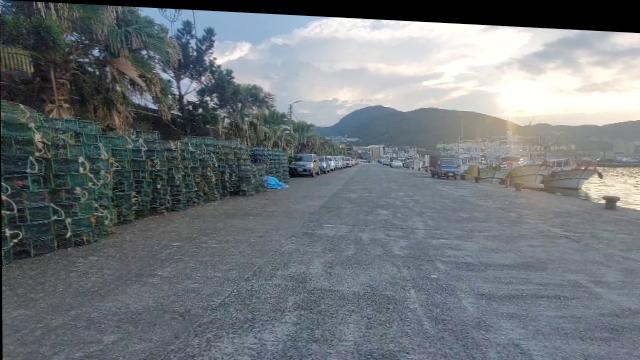pollute: (264, 171, 288, 186)
